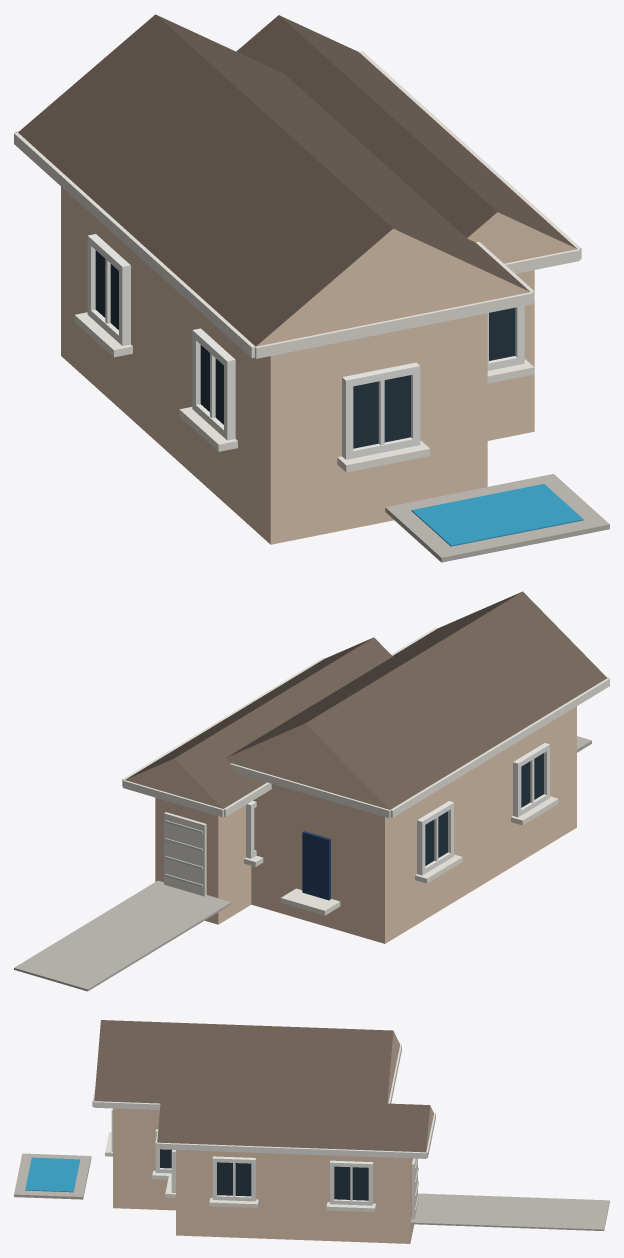
The picture shows the model from 3 angles, top to bottom: view 1: azimuth 30°, elevation 25°; view 2: azimuth 150°, elevation 25°; view 3: azimuth 270°, elevation 25°; orthographic projection. The views are drawn at different scales.
Visible parts, largest first — view 1: b8364; view 2: b8364; view 3: b8364.
Boxes of the visible parts, bbox=[...] form: b8364: bbox=[14, 14, 609, 562]; b8364: bbox=[14, 591, 609, 991]; b8364: bbox=[14, 1020, 609, 1243].
Bounding box in the file's own units: 3616 × 2563 × 8592.
